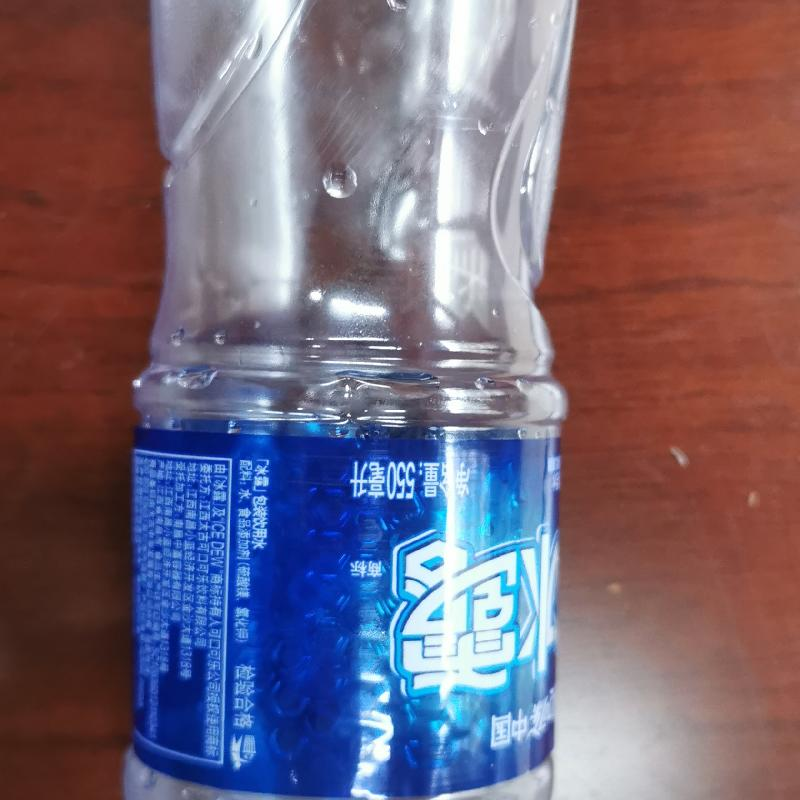bottles: (113, 1, 577, 799)
